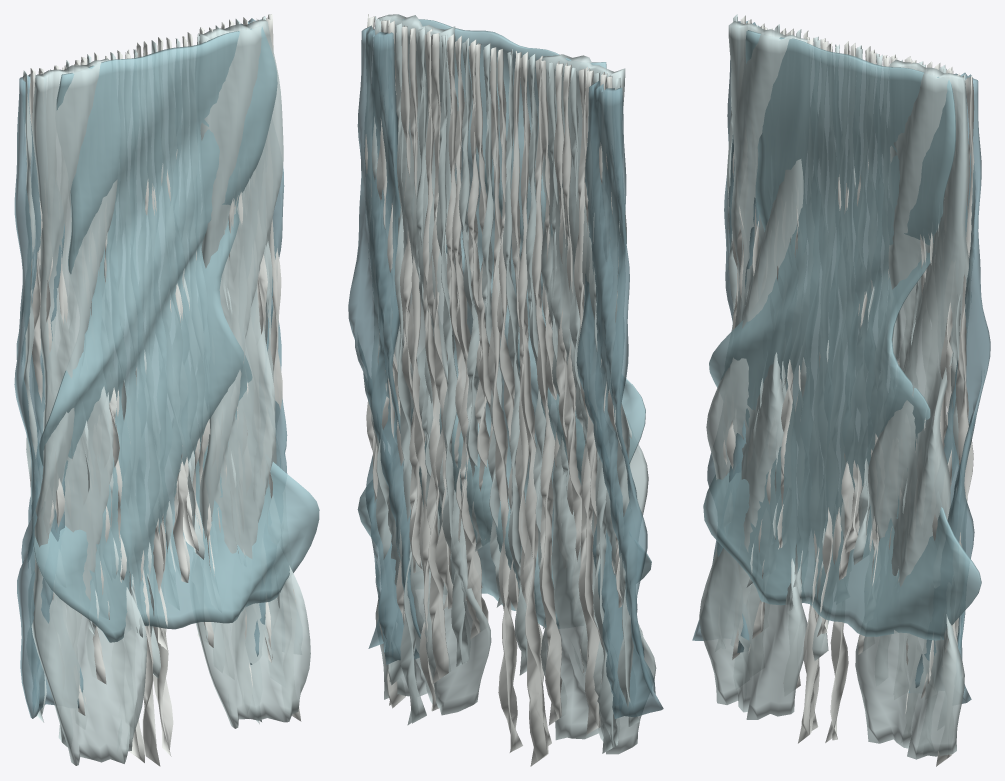
The model's file is waterfall-curtain.glb.
3 renders of one model, left to right at view 1: azimuth 30°, elevation 25°; view 2: azimuth 150°, elevation 25°; view 3: azimuth 330°, elevation 25°, orthographic. The views are drawn at different scales.
Parts seen in each view (by area): view 1: waterfall-curtain__water, waterfall-curtain__water_silver, waterfall-curtain__water_foam, waterfall-curtain__water_shadow; view 2: waterfall-curtain__water_silver, waterfall-curtain__water_foam, waterfall-curtain__water_shadow, waterfall-curtain__water; view 3: waterfall-curtain__water, waterfall-curtain__water_silver, waterfall-curtain__water_foam, waterfall-curtain__water_shadow.
Boxes of the visible parts, bbox=[...] form: waterfall-curtain__water: bbox=[33, 26, 319, 642]; waterfall-curtain__water_silver: bbox=[22, 16, 310, 765]; waterfall-curtain__water_foam: bbox=[29, 14, 301, 766]; waterfall-curtain__water_shadow: bbox=[14, 18, 287, 718]; waterfall-curtain__water_silver: bbox=[370, 14, 656, 754]; waterfall-curtain__water_foam: bbox=[365, 14, 622, 766]; waterfall-curtain__water_shadow: bbox=[348, 25, 663, 718]; waterfall-curtain__water: bbox=[357, 19, 651, 628]; waterfall-curtain__water: bbox=[703, 30, 981, 640]; waterfall-curtain__water_silver: bbox=[699, 14, 968, 759]; waterfall-curtain__water_foam: bbox=[723, 15, 974, 766]; waterfall-curtain__water_shadow: bbox=[692, 20, 990, 703].
Size of the model in its own units: 111 by 254 by 34.4.
